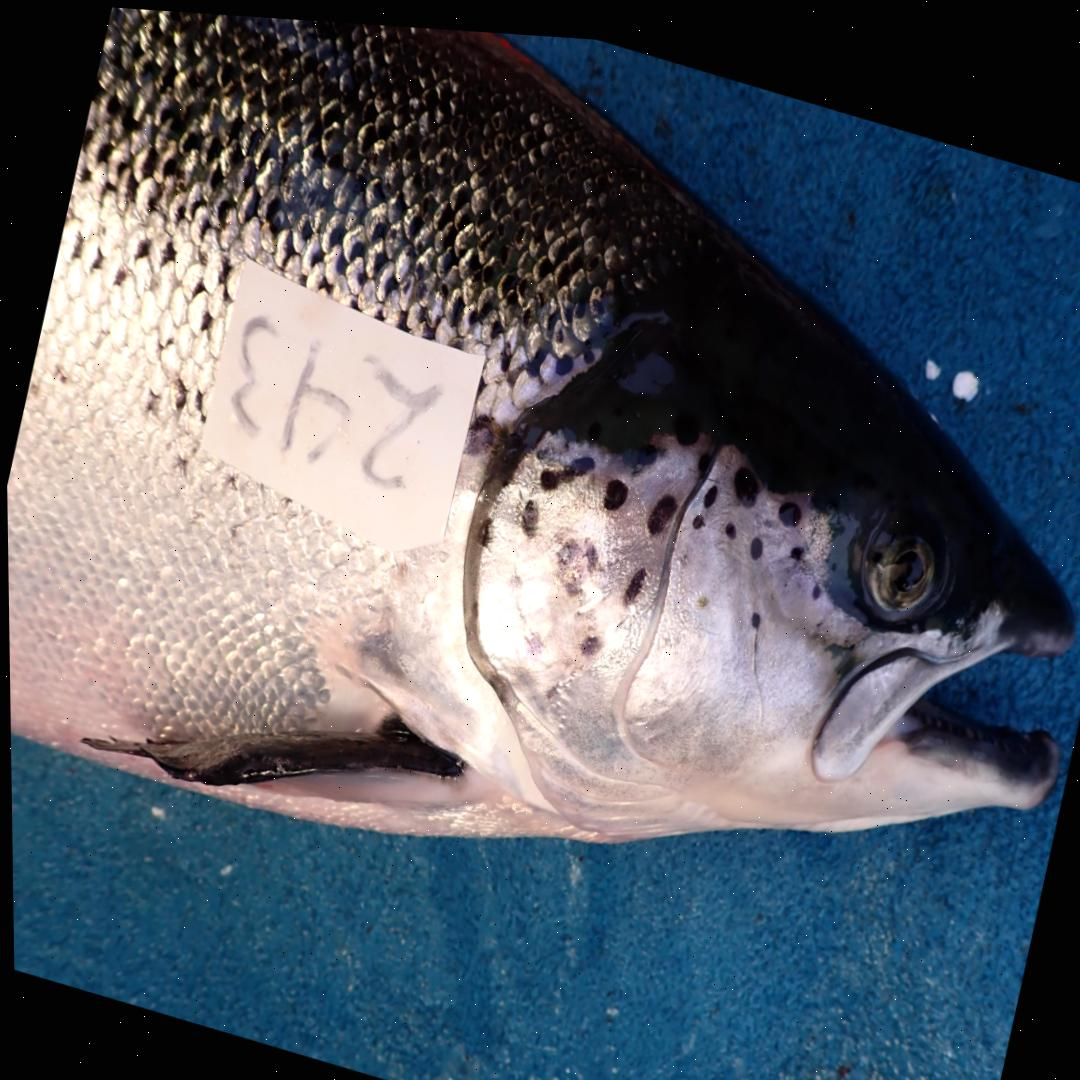spot: (554, 531, 596, 590), (536, 447, 592, 483), (644, 484, 674, 525), (731, 455, 757, 494), (671, 401, 697, 436), (620, 558, 643, 595), (601, 469, 626, 501), (775, 489, 799, 516), (518, 492, 536, 527), (522, 623, 541, 652), (635, 432, 655, 455), (577, 626, 596, 648), (695, 442, 710, 468), (503, 565, 521, 586), (700, 474, 715, 497), (747, 525, 760, 548), (476, 514, 488, 538), (692, 583, 706, 601), (722, 511, 735, 529), (747, 600, 758, 619), (787, 533, 800, 548), (808, 570, 819, 587), (689, 505, 701, 519)
